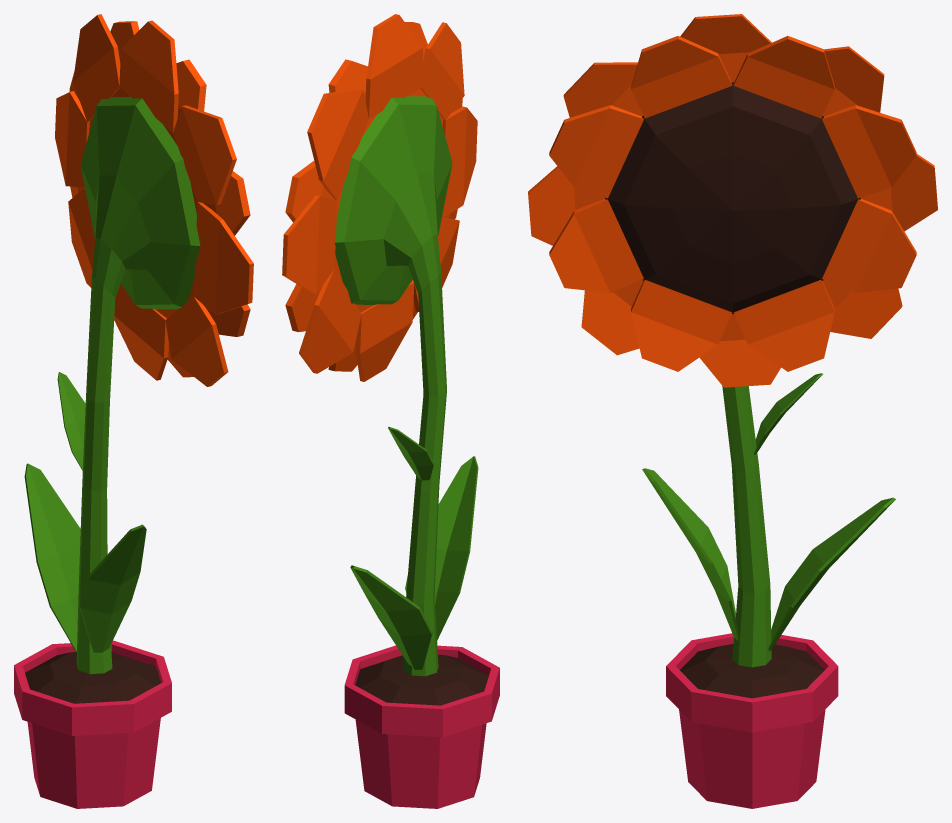
The model's file is Sunflower_01.obj.
The picture shows the model from 3 angles, left to right: view 1: azimuth 30°, elevation 25°; view 2: azimuth 150°, elevation 25°; view 3: azimuth 270°, elevation 25°; orthographic projection. The views are drawn at different scales.
Parts seen in each view (by area): view 1: sunflower_Circle.001; view 2: sunflower_Circle.001; view 3: sunflower_Circle.001.
Boxes of the visible parts, bbox=[...] form: sunflower_Circle.001: bbox=[14, 14, 253, 808]; sunflower_Circle.001: bbox=[282, 14, 499, 808]; sunflower_Circle.001: bbox=[528, 14, 937, 808].
Size of the model in its own units: 1.98 by 9.97 by 4.67.
